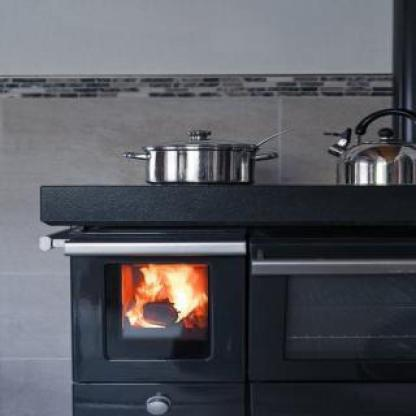fire: (125, 258, 201, 336)
